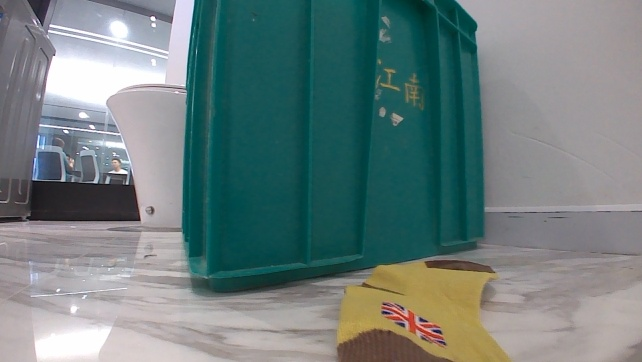socks: (327, 254, 515, 361)
toilet: (103, 81, 190, 231)
washing_machine1: (0, 0, 57, 223)
